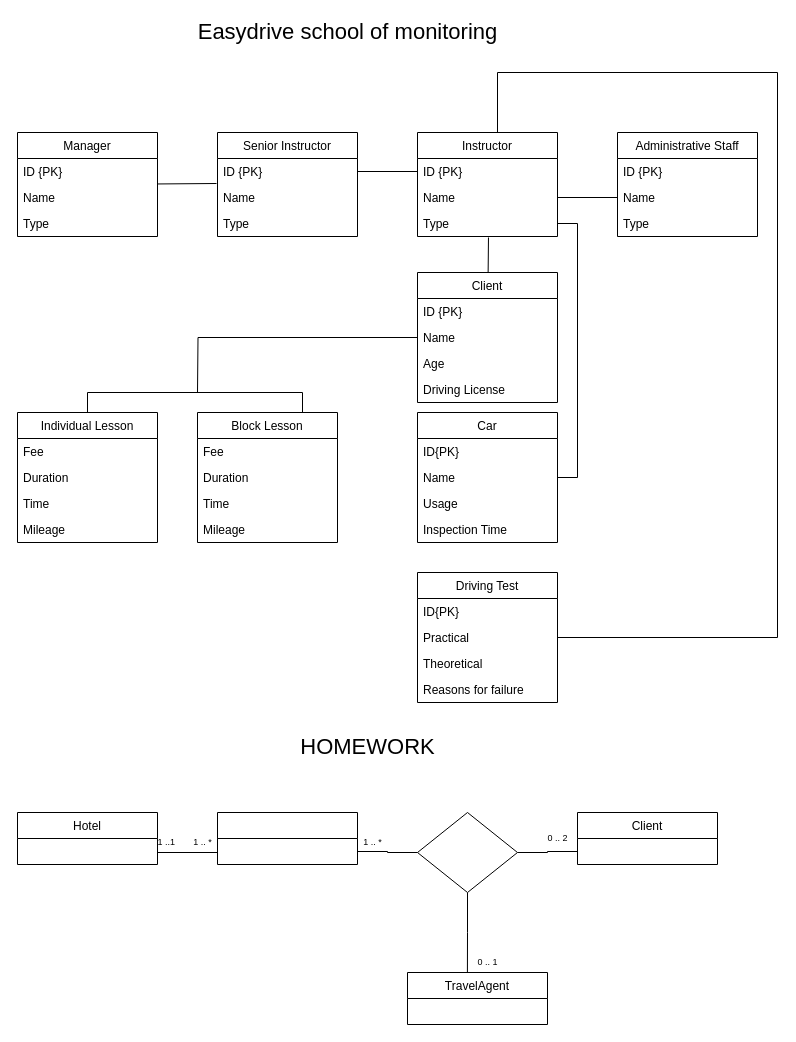
The diagram is 796 pixels wide and 1042 high, and some of its shapes have lost their labels. Each missing label, with the centre of its shape:
"Booking" goes at (x=467, y=852).
"Room" goes at (x=287, y=838).
